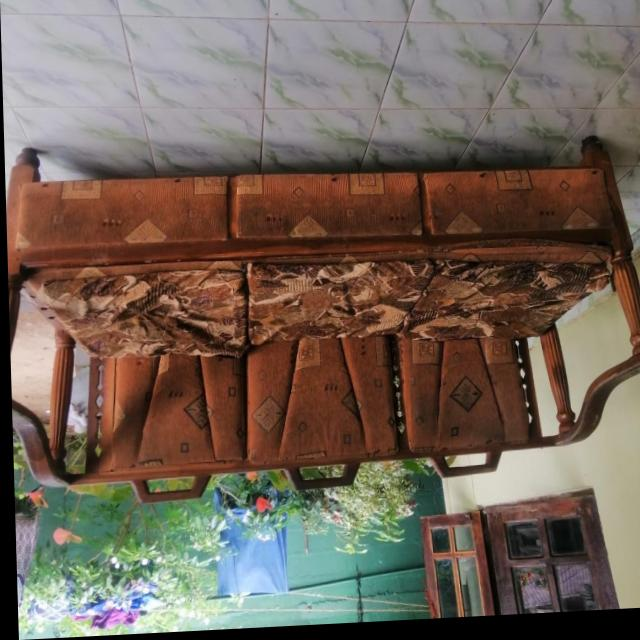Sofa: (4, 125, 640, 510)
